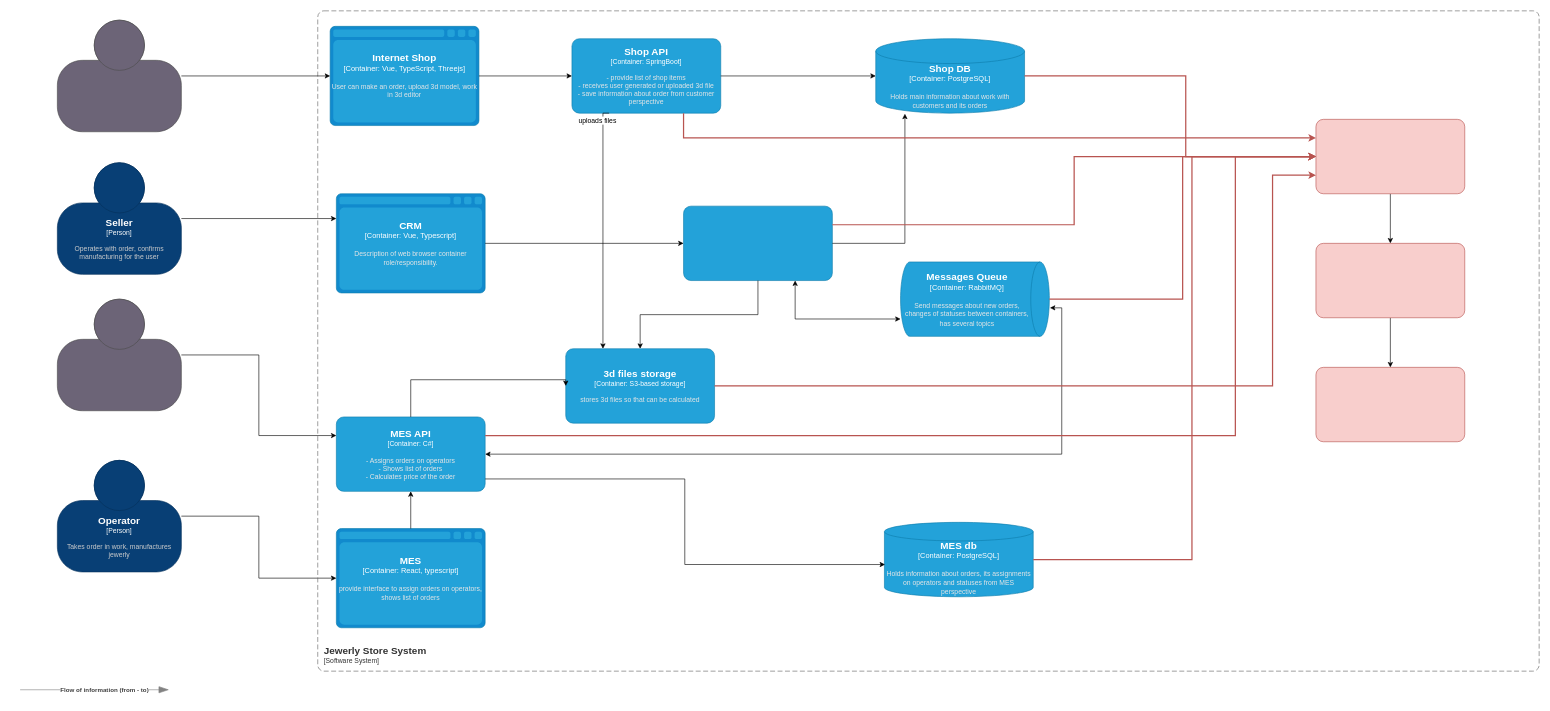
Some shapes in this 1550 by 711 pixel diagram are drawn without their labels. Here are the shapes that lost their labels. From the top down, the centre of each, then its label:
At [119,76]: "Customer [Person] Description of external person.".
At [1390,156]: "OpenTelemetry Collector [Container: OpenTelemetry] OpenTelemetry Collector".
At [757,243]: "CRM API [Container: SpringBoot] Description of container role/responsibility.".
At [1390,280]: "Jaeger [Container: Jaeger] Jaeger".
At [119,355]: "API user [Person] Description of external person.".
At [1390,404]: "Grafana [Container: Grafana] Grafana".
